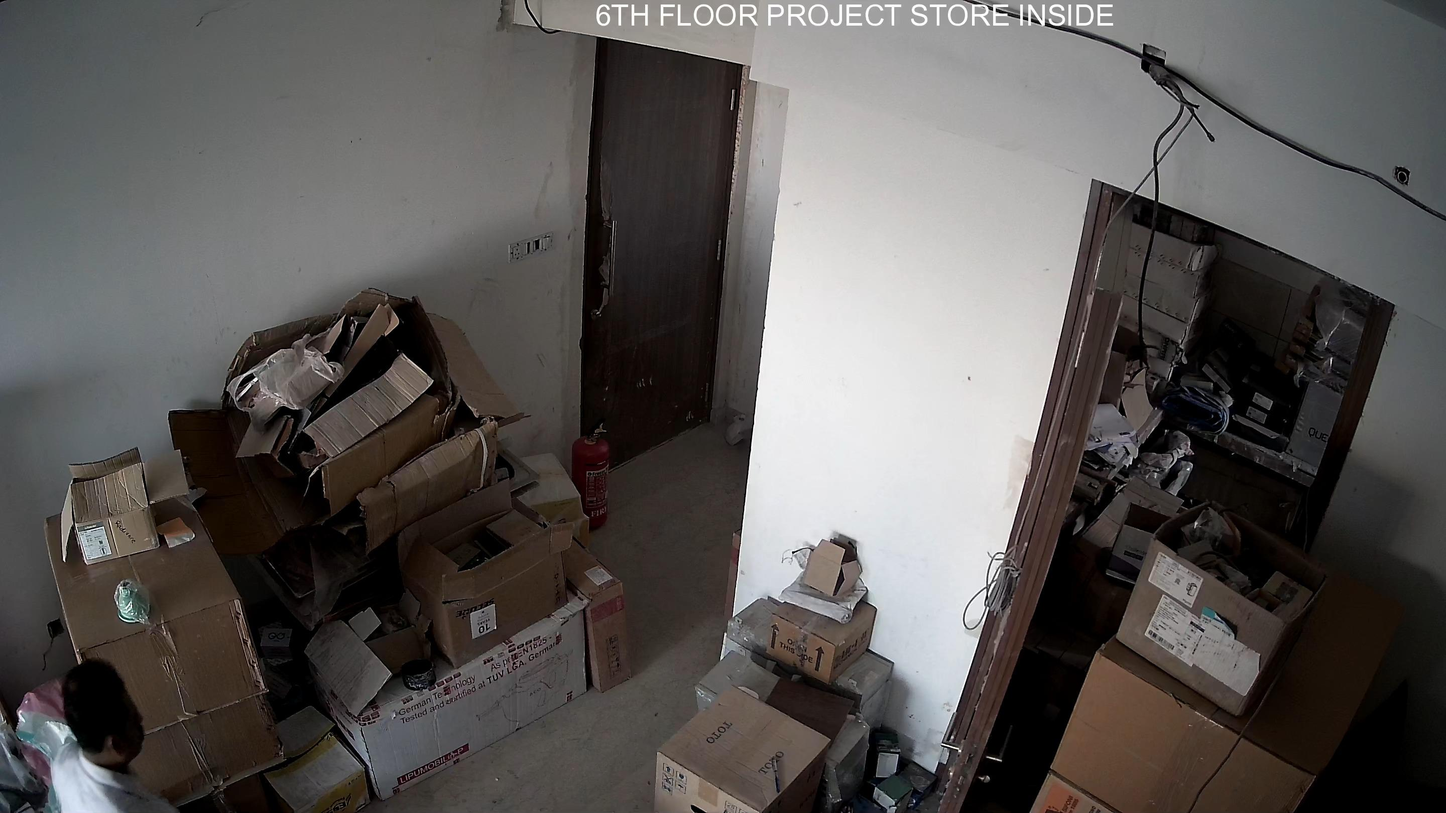Door-Close: (562, 20, 751, 472)
